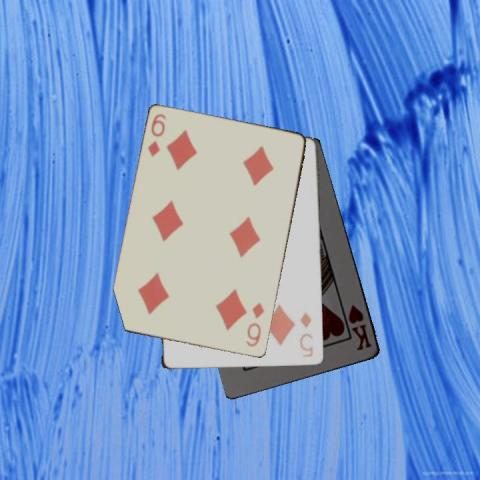5d: (296, 310, 314, 359)
6d: (243, 299, 266, 349), (145, 110, 167, 158)
Kh: (345, 302, 374, 353)
